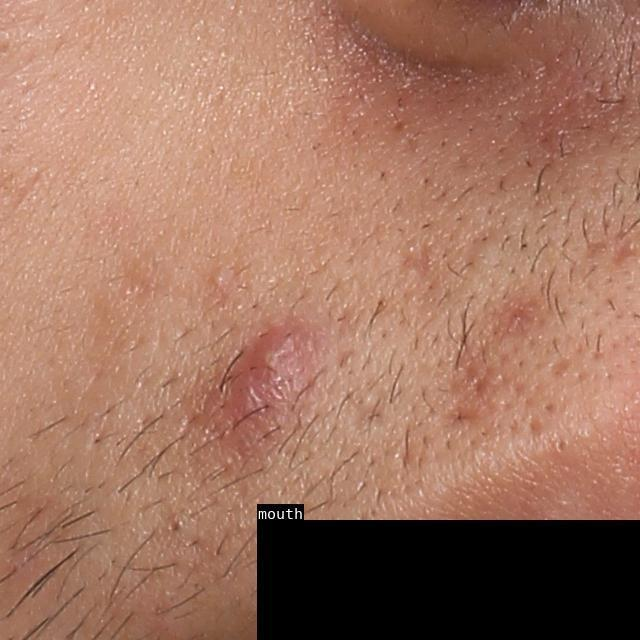atrophic_scar: (443, 334, 588, 444), (350, 378, 396, 432), (578, 241, 611, 267)
comedo: (207, 264, 233, 290)
